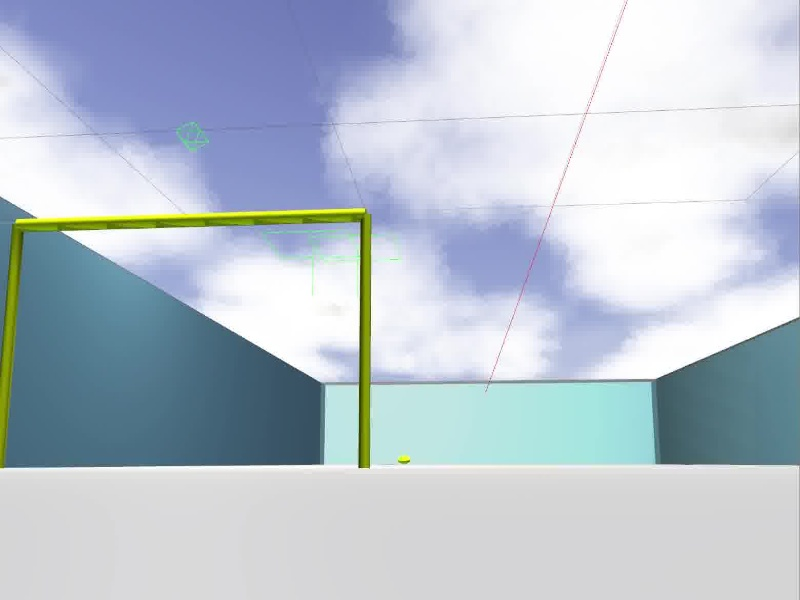gate: (1, 207, 371, 470)
